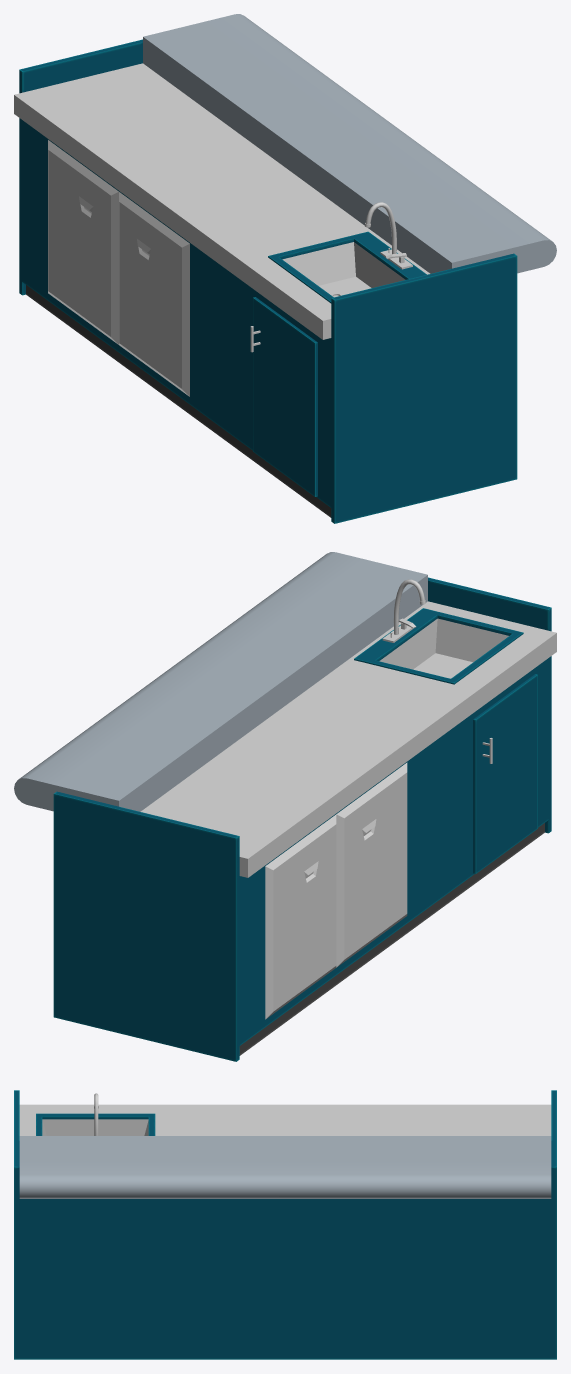
File: Bancone.fbx
3 renders of one model, top to bottom at view 1: azimuth 30°, elevation 25°; view 2: azimuth 150°, elevation 25°; view 3: azimuth 270°, elevation 25°, orthographic. The views are drawn at different scales.
Visible parts, largest first — view 1: Bancone; view 2: Bancone; view 3: Bancone.
Boxes of the visible parts, x1=… form: Bancone: x1=14, y1=14, x2=556, y2=523; Bancone: x1=14, y1=552, x2=556, y2=1061; Bancone: x1=14, y1=1090, x2=556, y2=1359.
Size of the model in its own units: 130 by 138 by 299.
Materials: 1 (1 with a texture image).
